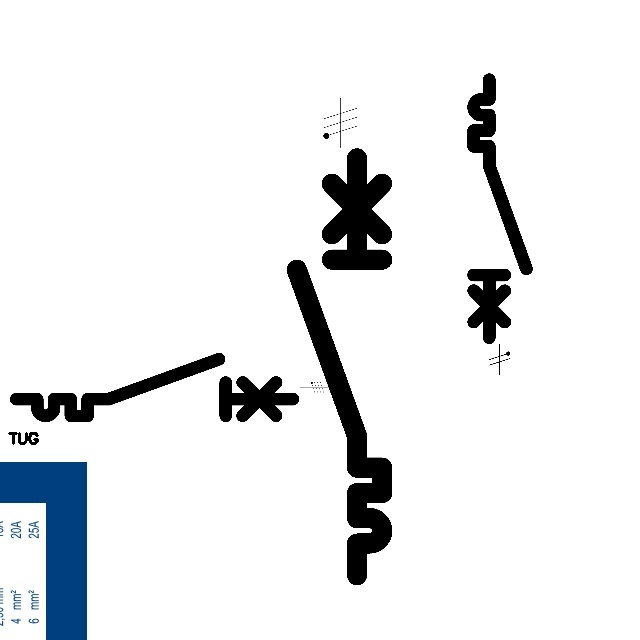interruptor_termomagnetico: (286, 147, 393, 586), (9, 352, 300, 423), (467, 73, 533, 344)
